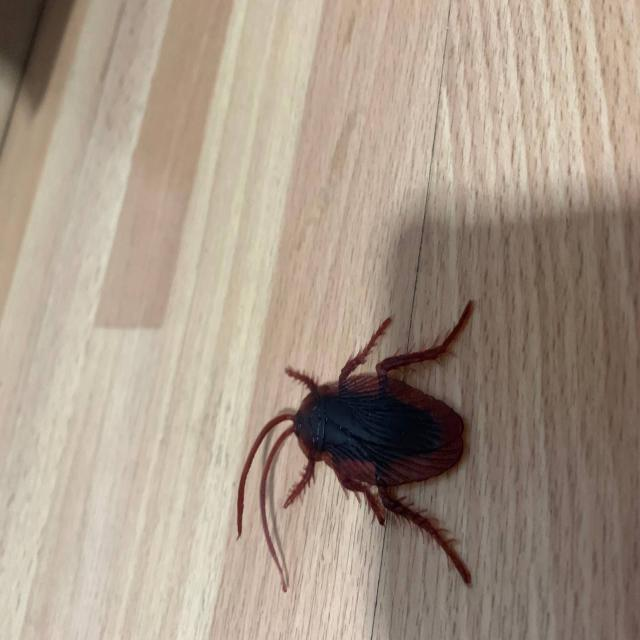Cockroach: (227, 341, 493, 593)
